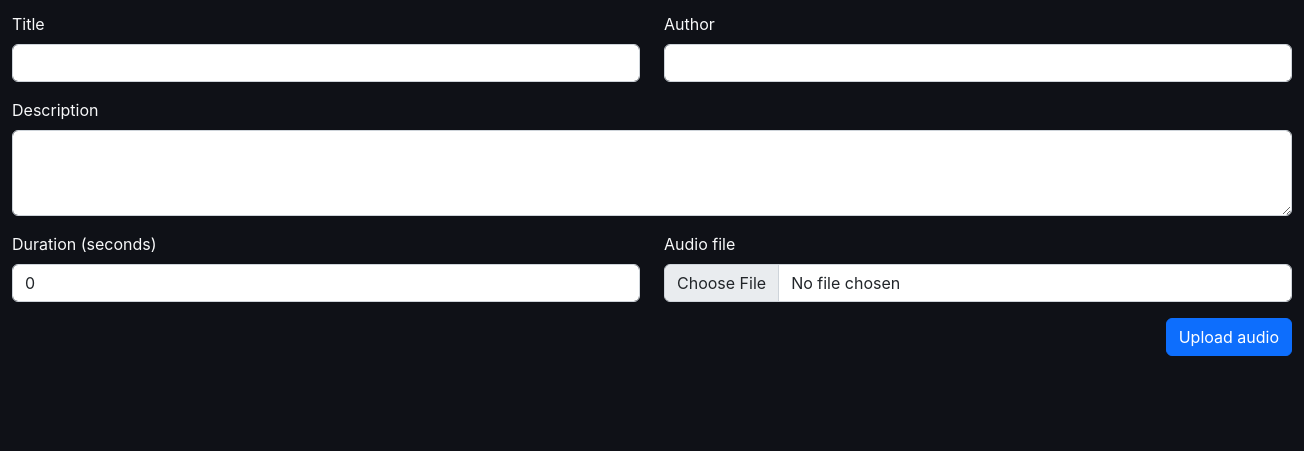
Scenario: AudioUploadForm › shows an error when no file is provided
Type "Demo track" into the field labelled "Title" at (326, 63), box [12, 44, 640, 82]
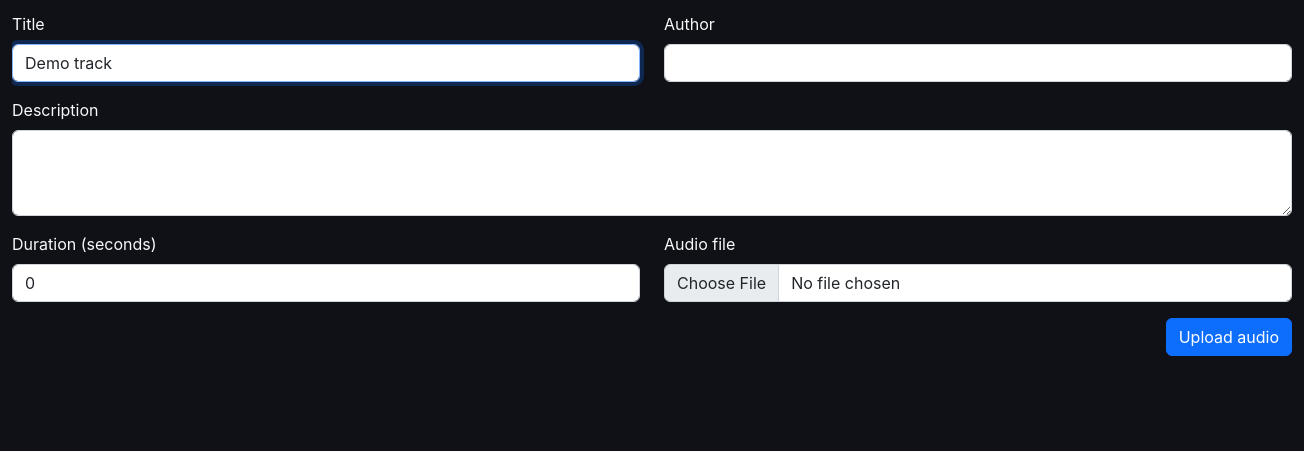
Click the button "Upload audio" at (1229, 337), box [1166, 318, 1292, 356]
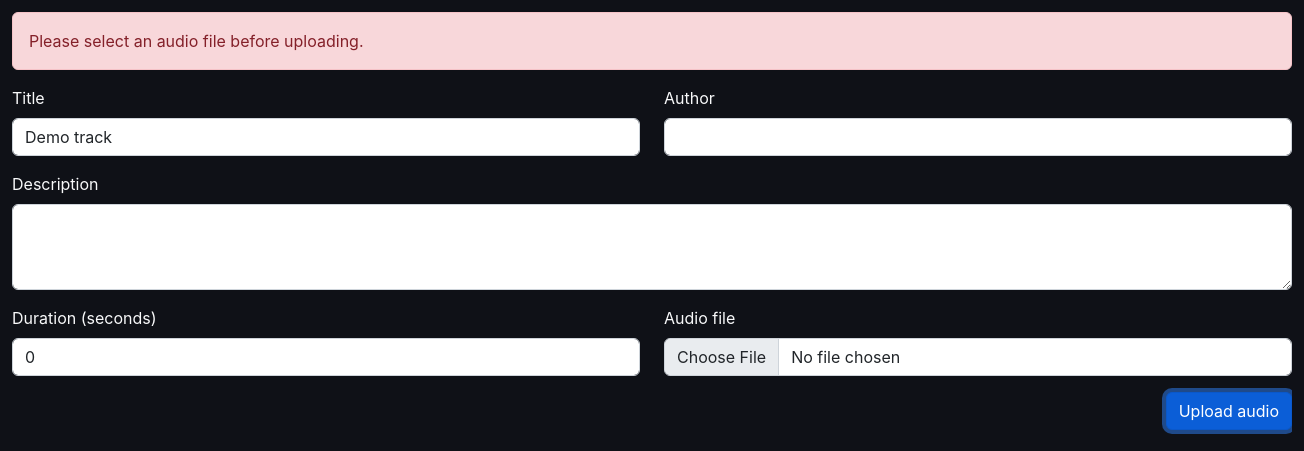
Now the message shows "Please select an audio file", box [29, 31, 364, 51]
